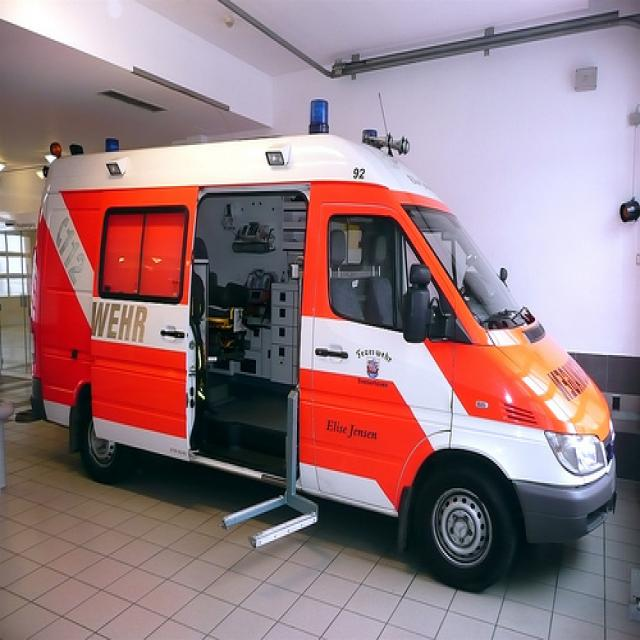emergency-vehicle: (32, 137, 617, 587)
